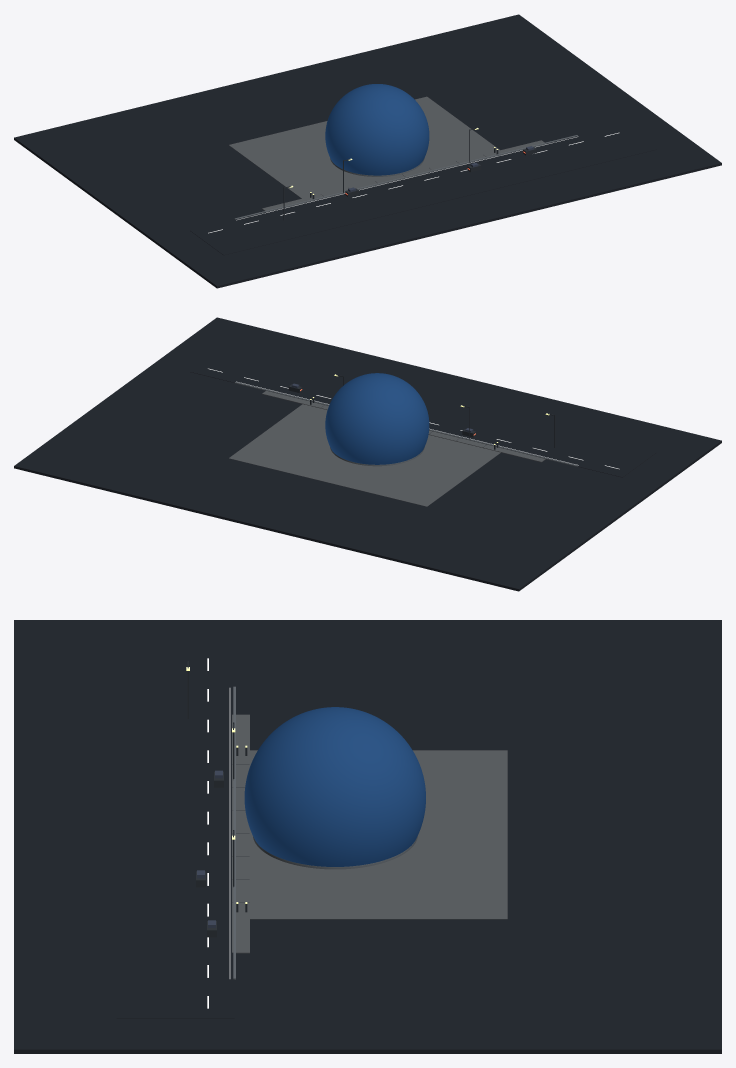
File: sphere_studio.glb
3 renders of one model, top to bottom at view 1: azimuth 30°, elevation 25°; view 2: azimuth 150°, elevation 25°; view 3: azimuth 270°, elevation 25°, orthographic. The views are drawn at different scales.
Visible parts, largest first — view 1: GROUND, FRONT_ROAD, PLAZA_PAVEMENT, LED_SCREEN, FRONT_SIDEWALK, ROAD_CURB; view 2: GROUND, FRONT_ROAD, PLAZA_PAVEMENT, LED_SCREEN, FRONT_SIDEWALK, ROAD_CURB; view 3: GROUND, FRONT_ROAD, PLAZA_PAVEMENT, LED_SCREEN, FRONT_SIDEWALK, ROAD_CURB.
Part boxes in pixels (<box>): GROUND: <box>14,14,721,288</box>; FRONT_ROAD: <box>190,125,656,255</box>; PLAZA_PAVEMENT: <box>229,96,499,198</box>; LED_SCREEN: <box>325,84,429,175</box>; FRONT_SIDEWALK: <box>262,140,546,212</box>; ROAD_CURB: <box>234,135,577,219</box>; GROUND: <box>14,317,721,591</box>; FRONT_ROAD: <box>190,347,656,477</box>; PLAZA_PAVEMENT: <box>229,404,500,506</box>; LED_SCREEN: <box>325,373,429,464</box>; FRONT_SIDEWALK: <box>262,390,545,462</box>; ROAD_CURB: <box>234,382,577,466</box>; GROUND: <box>14,620,721,1053</box>; FRONT_ROAD: <box>116,649,234,1018</box>; PLAZA_PAVEMENT: <box>250,750,507,919</box>; LED_SCREEN: <box>244,707,425,866</box>; FRONT_SIDEWALK: <box>232,714,249,953</box>; ROAD_CURB: <box>233,686,235,979</box>.
Size of the model in its own units: 56 by 7.51 by 39.
